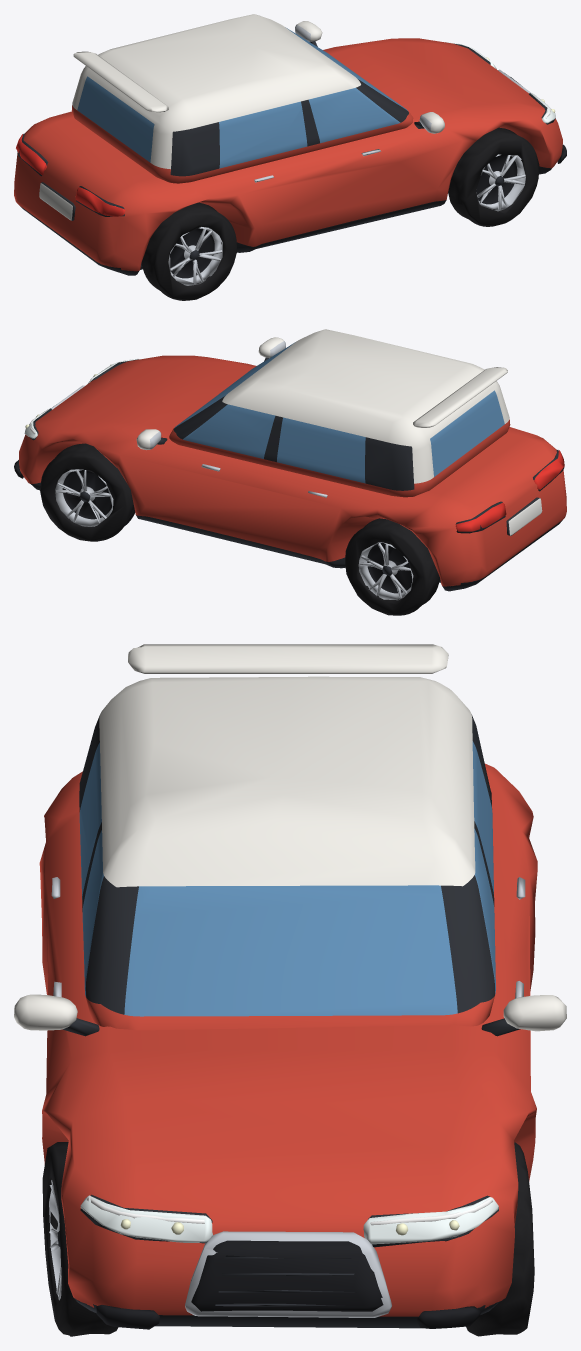
File: macchina115.glb
3 views of the same model, one above another, from view 1: azimuth 30°, elevation 25°; view 2: azimuth 150°, elevation 25°; view 3: azimuth 270°, elevation 25° (orthographic). The views are drawn at different scales.
Parts seen in each view (by area): view 1: Macchina; view 2: Macchina; view 3: Macchina.
Boxes of the visible parts, <box> form: Macchina: <box>14,14,566,300</box>; Macchina: <box>14,329,566,615</box>; Macchina: <box>14,644,566,1336</box>.
Bounding box in the file's own units: 4.06 × 1.51 × 2.07.
